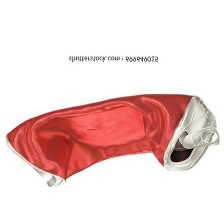can: (4, 90, 221, 197)
